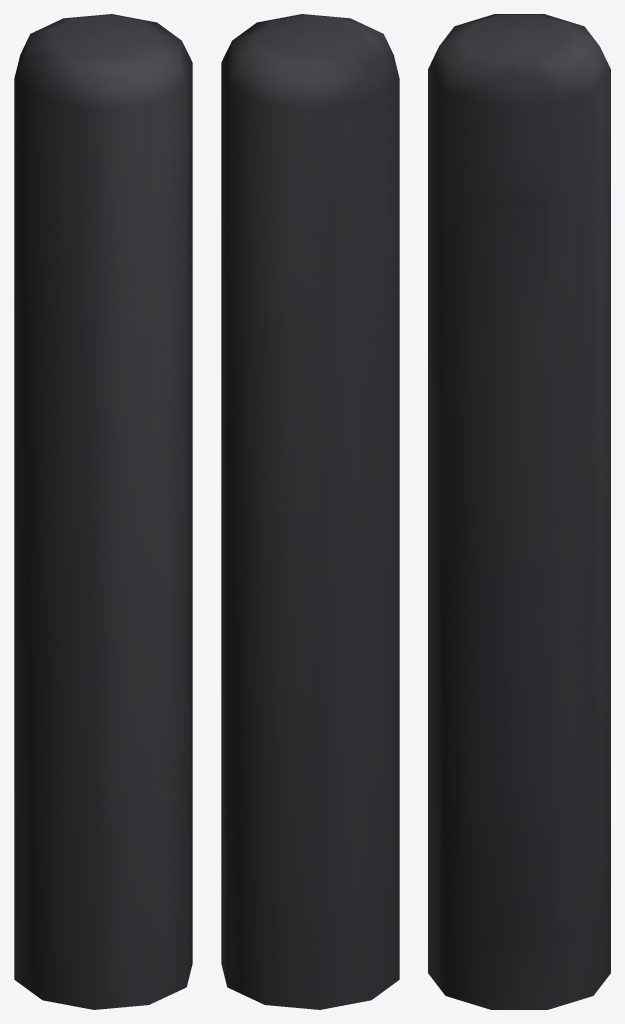
The model's file is electric_fence.fbx.
3 renders of one model, left to right at view 1: azimuth 30°, elevation 25°; view 2: azimuth 150°, elevation 25°; view 3: azimuth 270°, elevation 25°, orthographic.
Parts seen in each view (by area): view 1: Cylinder.004; view 2: Cylinder.004; view 3: Cylinder.004.
Boxes of the visible parts, box(x1,y1,x2,y2) form: Cylinder.004: box(14, 14, 192, 1009); Cylinder.004: box(221, 14, 399, 1009); Cylinder.004: box(428, 14, 610, 1009).
Size of the model in its own units: 57.06 by 339 by 60.
